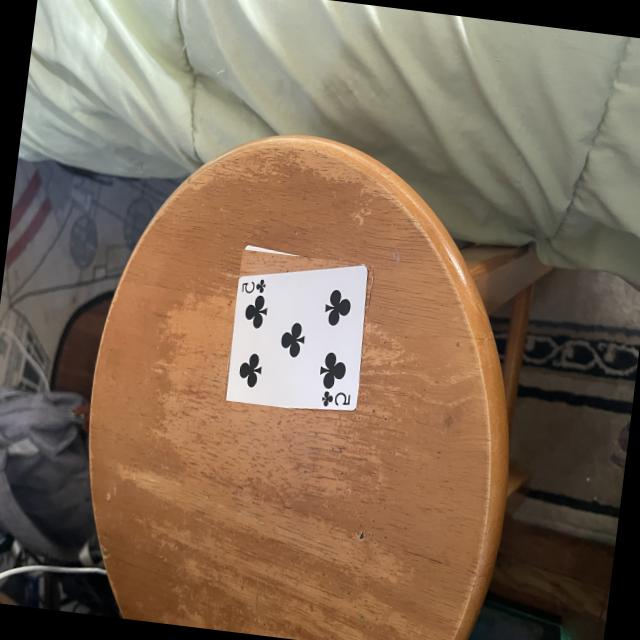5 of clubs: (227, 263, 369, 406)
